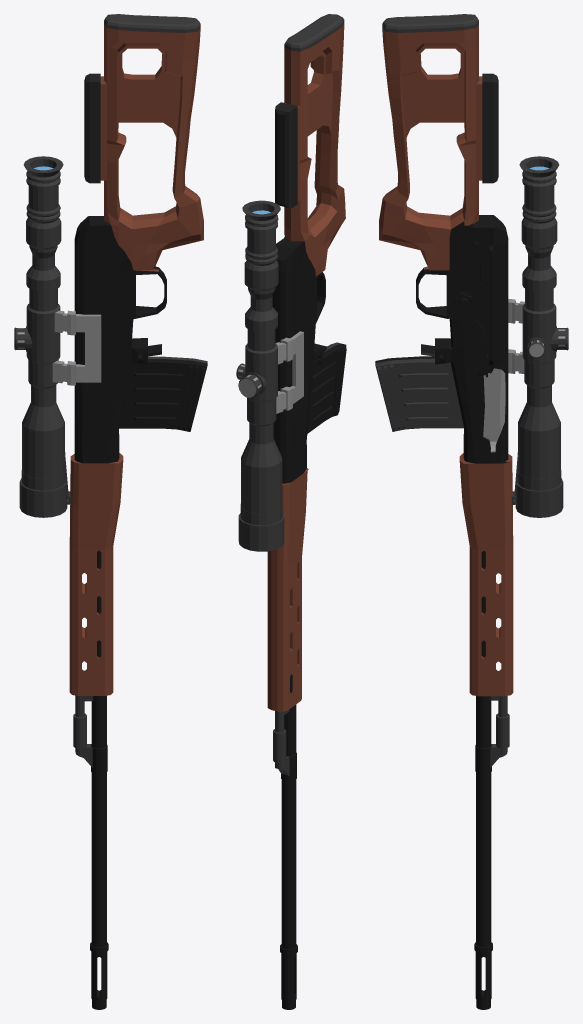
The model's file is SVD.fbx.
The picture shows the model from 3 angles, left to right: view 1: azimuth 90°, elevation 25°; view 2: azimuth 150°, elevation 25°; view 3: azimuth 270°, elevation 25°; orthographic projection. The views are drawn at different scales.
Parts seen in each view (by area): view 1: SVD; view 2: SVD; view 3: SVD.
Part boxes in pixels (x1=…): SVD: x1=14, y1=14, x2=207, y2=1009; SVD: x1=236, y1=14, x2=346, y2=1009; SVD: x1=375, y1=14, x2=568, y2=1009.
Bounding box in the file's own units: 22.02 × 470 × 83.14.
